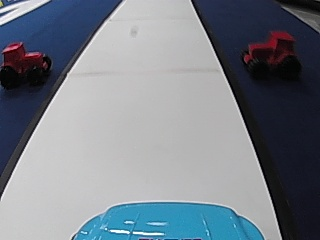tractor: (238, 28, 301, 82), (0, 39, 50, 88)
